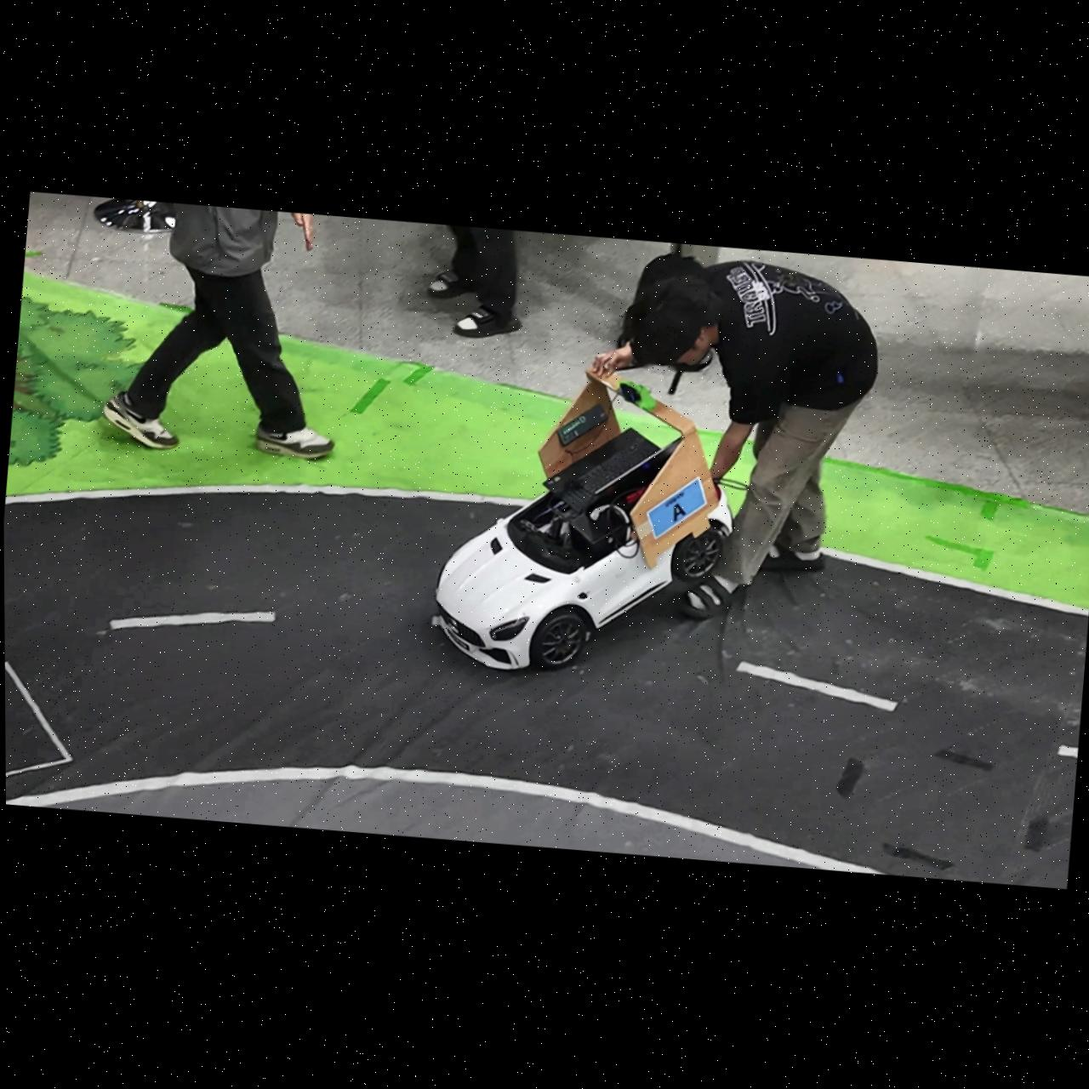broken_line: (736, 661, 898, 711), (110, 612, 275, 629), (1057, 744, 1078, 758), (432, 616, 441, 626)
